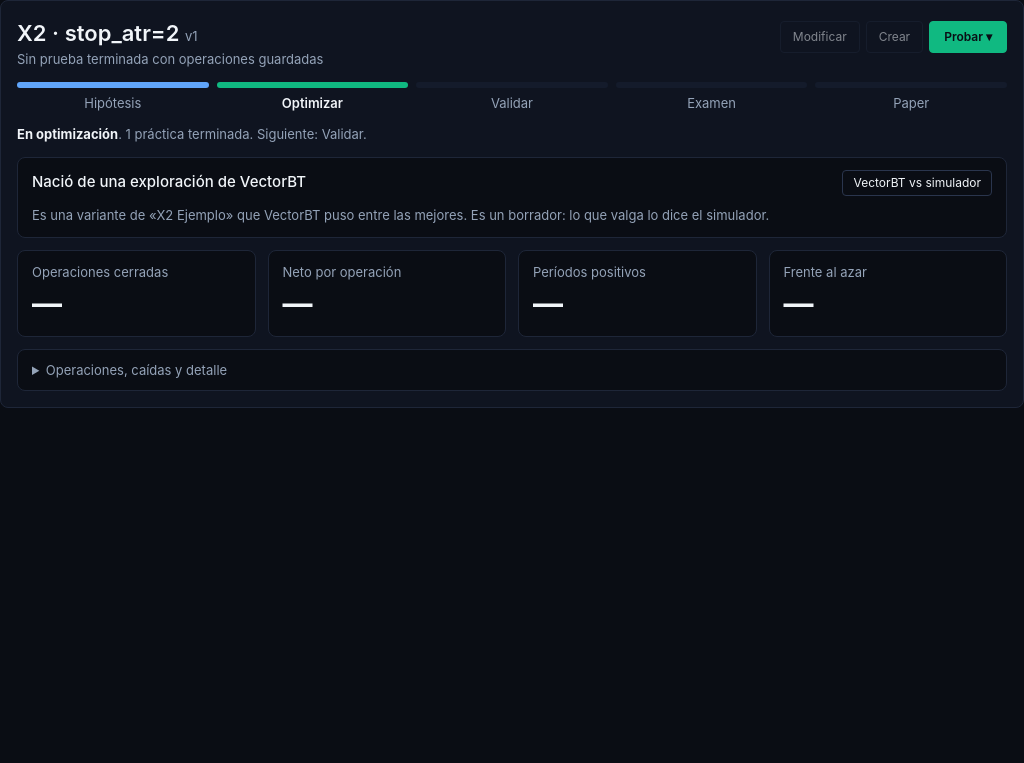
Test case: la variante creada con VectorBT › guarda el vínculo con su exploración y compara cuando su práctica terminó
Expected: the text with test id "vbt-origin" shows "variante de «X2 Ejemplo»", 32,206 -> 769,222
Click the button "VectorBT vs simulador": (917, 182) 842,170 -> 992,196
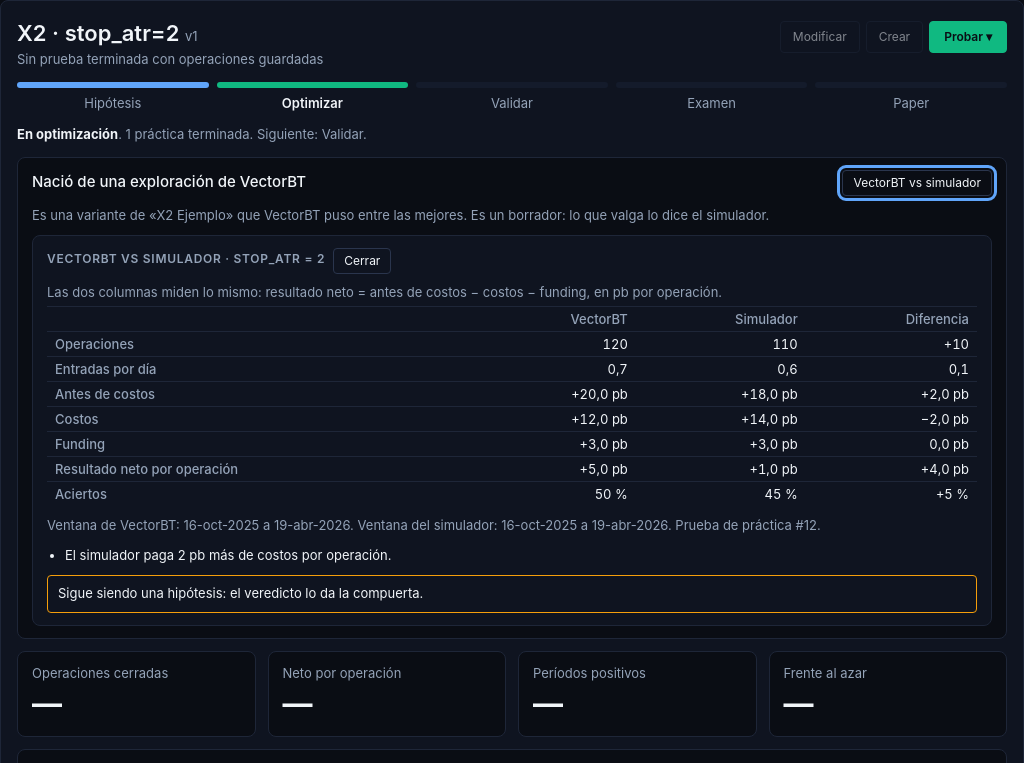
Expected: the element named "VectorBT contra el simulador" is shown, 32,235 -> 992,626
